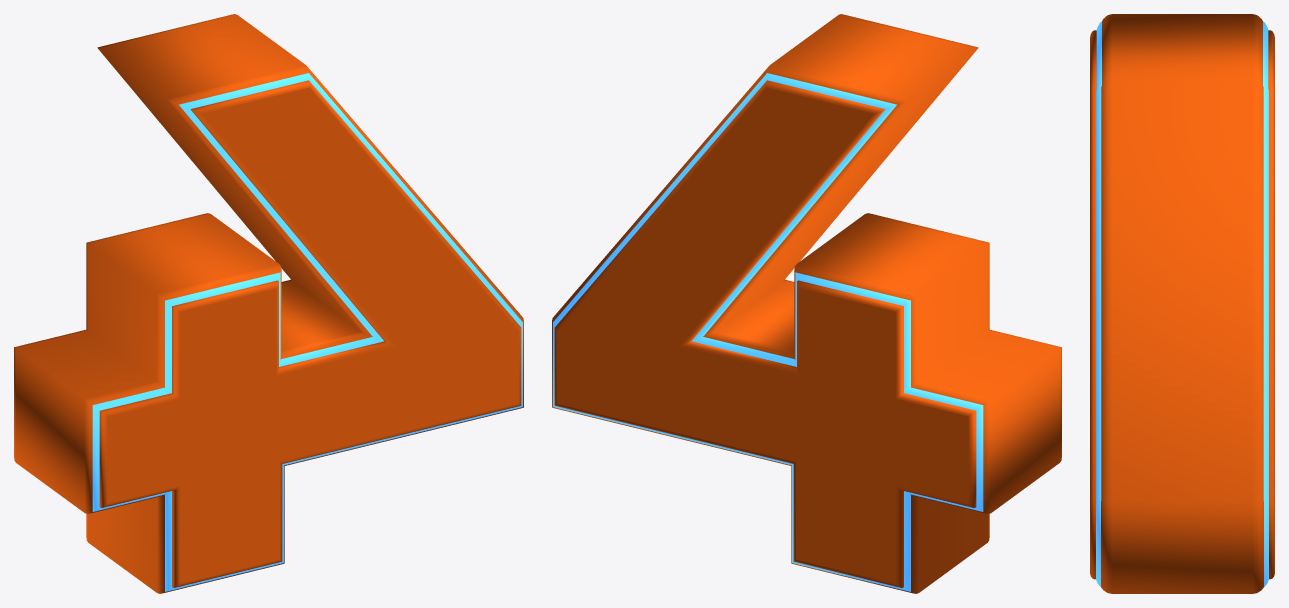
File: four.fbx
3 renders of one model, left to right at view 1: azimuth 30°, elevation 25°; view 2: azimuth 150°, elevation 25°; view 3: azimuth 270°, elevation 25°, orthographic. The views are drawn at different scales.
Parts seen in each view (by area): view 1: Object_4; view 2: Object_4; view 3: Object_4.
Part boxes in pixels (x1,y1,x2,y2): Object_4: (14, 14, 523, 593); Object_4: (552, 14, 1061, 593); Object_4: (1090, 14, 1274, 593).
Bounding box in the file's own units: 3347 × 3594 × 1199.
